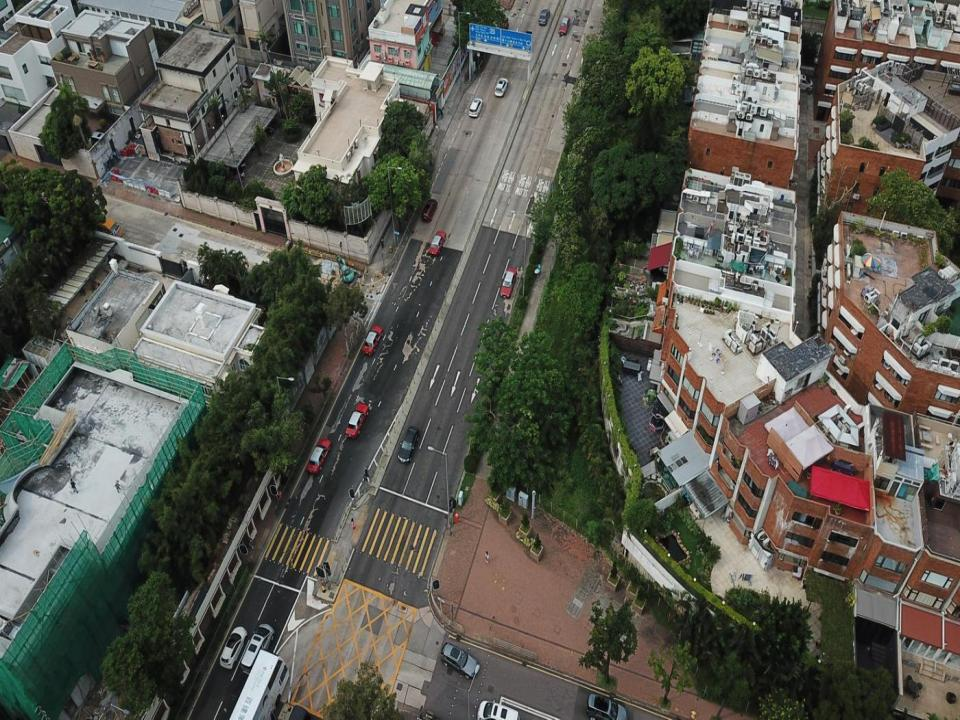bus: (228, 650, 289, 719), (96, 216, 122, 238)
car: (220, 626, 247, 667), (306, 438, 330, 472), (397, 426, 418, 464), (345, 404, 369, 437), (362, 324, 383, 354), (500, 268, 516, 298), (428, 230, 446, 255), (421, 198, 438, 222), (494, 78, 507, 97), (558, 16, 570, 35), (538, 9, 551, 26)
van: (241, 624, 274, 674), (440, 643, 479, 678), (586, 694, 627, 719), (478, 700, 518, 719), (469, 97, 482, 117)
